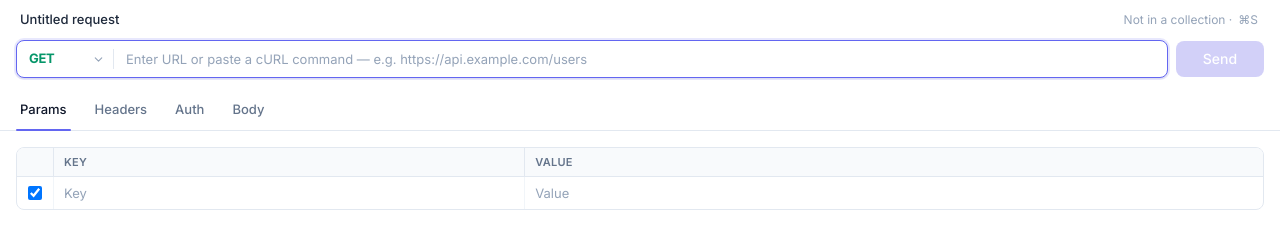
RequestBuilder › disables Send while the URL is empty, enables it once typed
This screenshot has width=1280, height=227.
Expected: the button "Send" is disabled, [1176, 41, 1264, 77]
Replace the text in the field with placeholder "api.example.com" with "https://api.example.com/users" at (640,59), box [114, 41, 1167, 77]
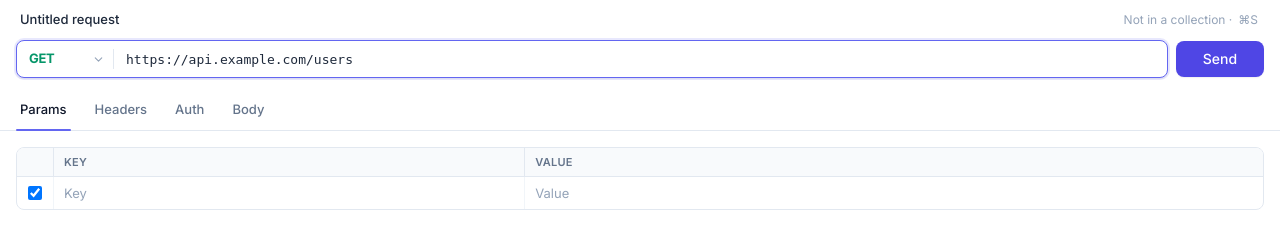
Expected: the button "Send" is enabled, [1176, 41, 1264, 77]
